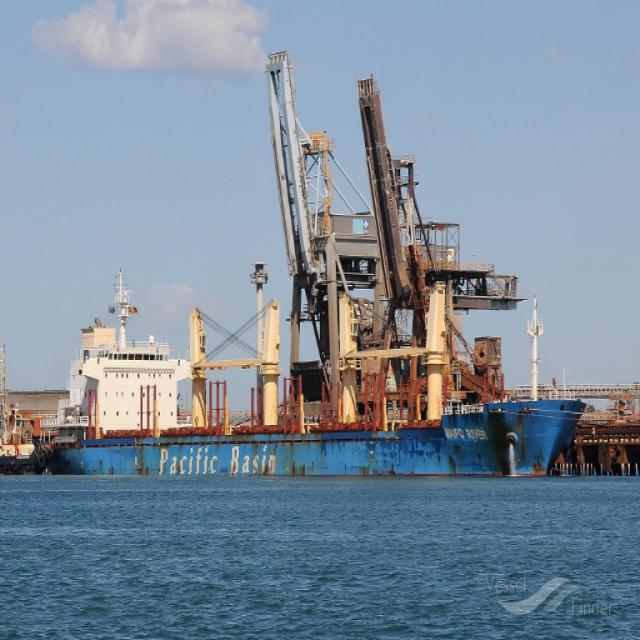OCR: (155, 441, 282, 478), (436, 422, 488, 446)
